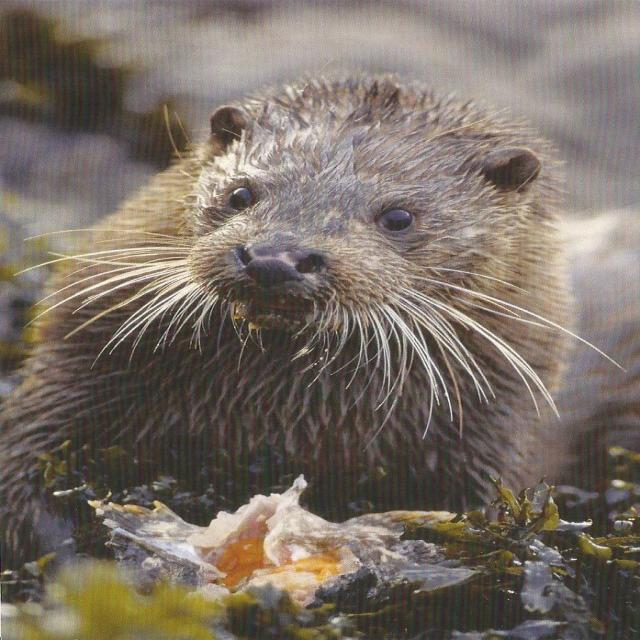otter: (1, 81, 561, 508)
